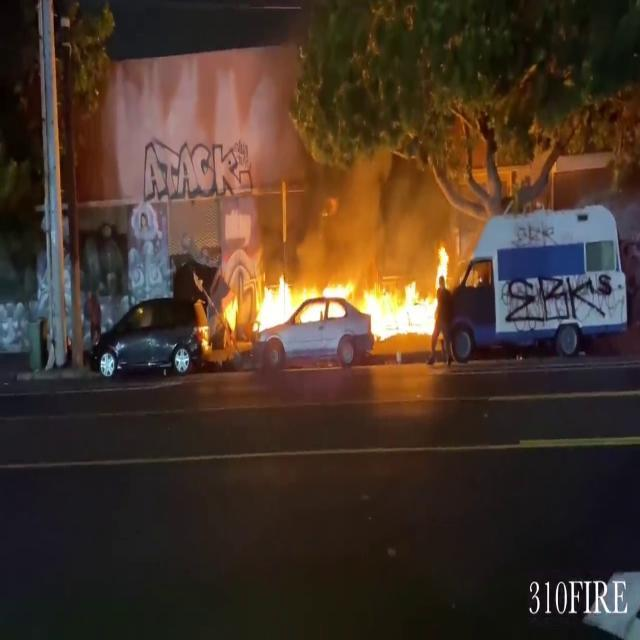Fire: (218, 254, 452, 354)
Smoke: (298, 135, 448, 269)
